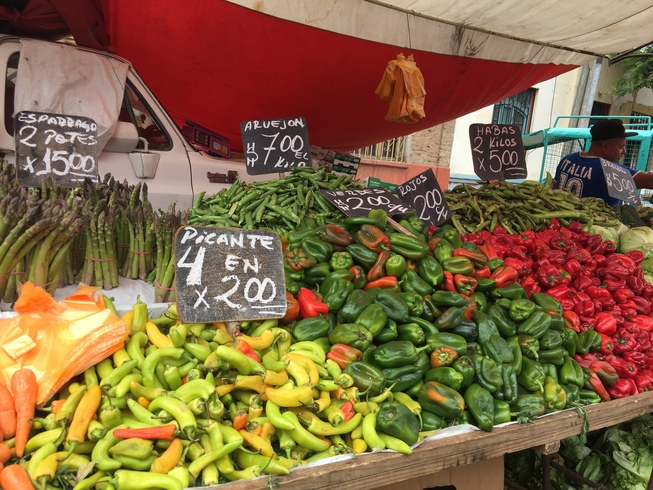precio: (165, 220, 296, 338), (5, 103, 111, 196), (237, 113, 326, 183), (467, 116, 532, 192), (317, 174, 409, 226), (393, 166, 454, 236), (598, 153, 647, 219)
